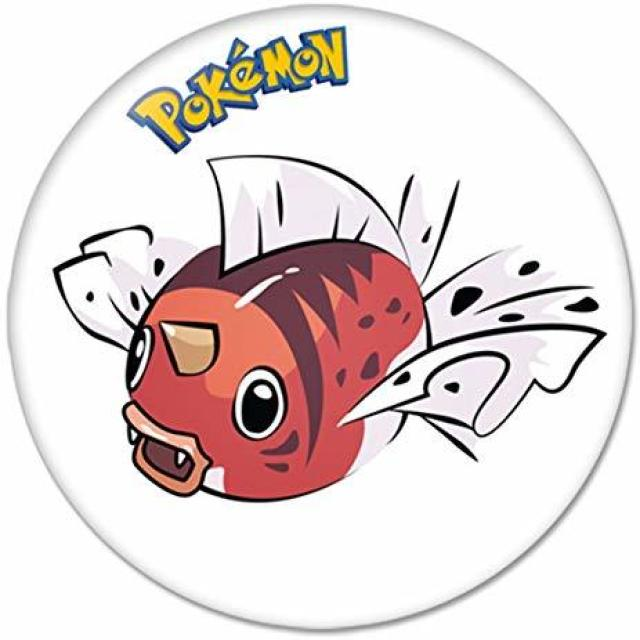Seaking: (58, 145, 540, 497)
